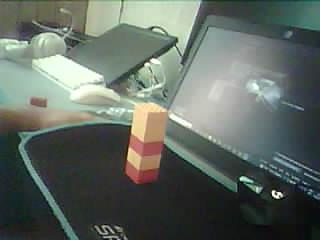lego: (125, 101, 169, 183), (29, 95, 49, 107)
